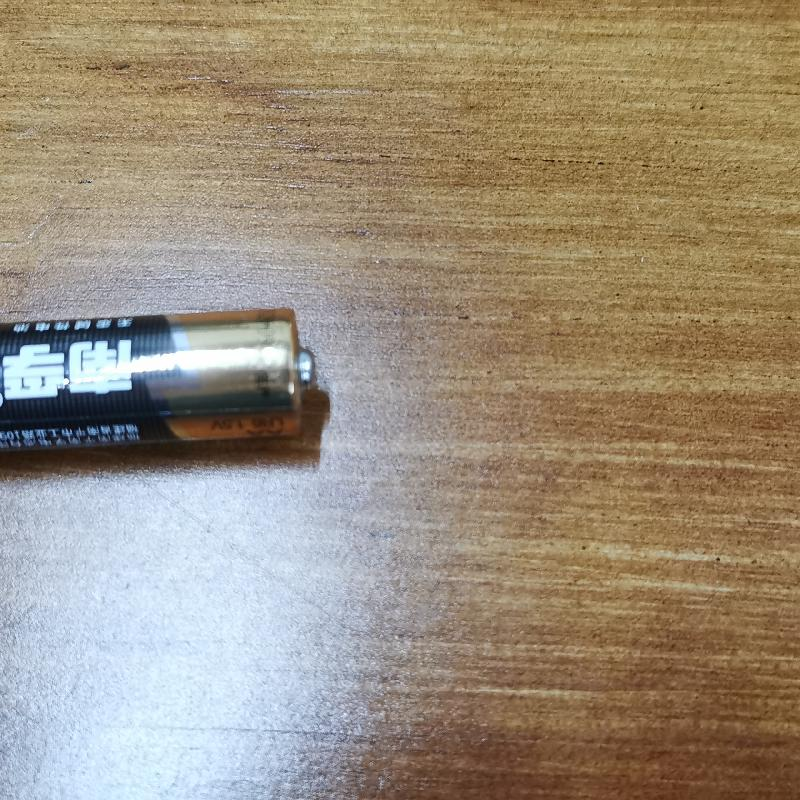battery: (1, 306, 324, 467)
